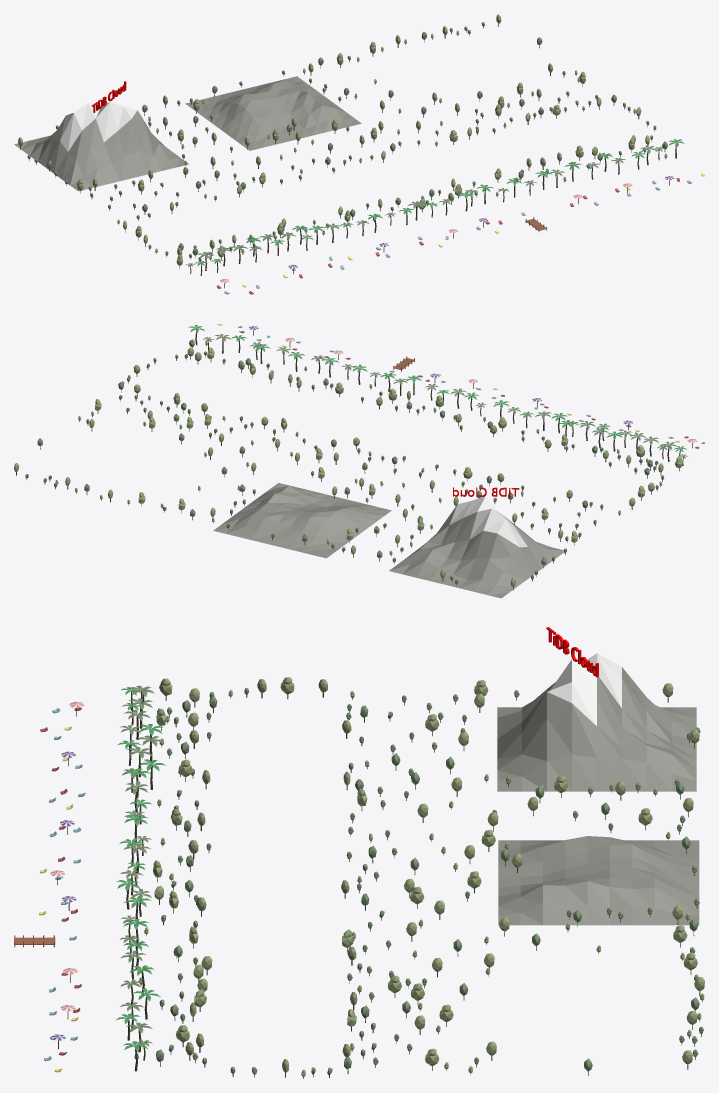
The model's file is environment_objects.glb.
The picture shows the model from 3 angles, top to bottom: view 1: azimuth 30°, elevation 25°; view 2: azimuth 150°, elevation 25°; view 3: azimuth 270°, elevation 25°; orthographic projection. The views are drawn at different scales.
Parts seen in each view (by area): view 1: Landscape.001, Landscape; view 2: Landscape.001, Landscape; view 3: Landscape.001, Landscape.
Part boxes in pixels (box(x1,y1,x2,y2)): Landscape.001: box(14, 102, 188, 191); Landscape: box(185, 76, 361, 150); Landscape.001: box(389, 496, 563, 598); Landscape: box(213, 483, 391, 558); Landscape.001: box(497, 653, 696, 791); Landscape: box(498, 836, 699, 925).
Bounding box in the file's own units: 120 × 15.66 × 91.63.
